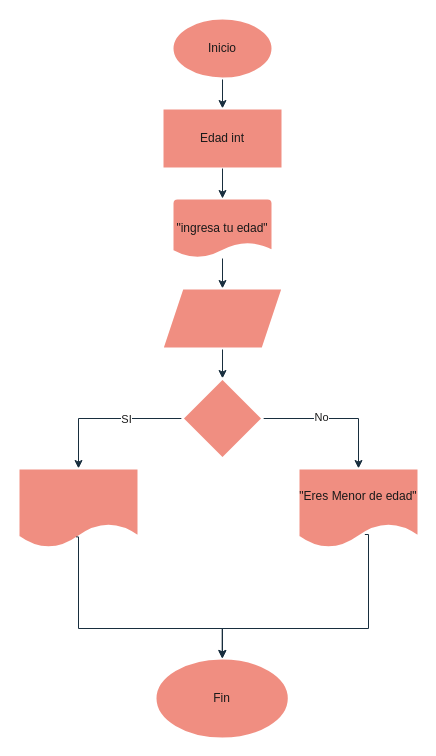
This 436x756 diagram has some shape labels left out. The shapes that lost their labels are listed below. From the top down, each one's box as (x1, y1, x2, y2) in pixels, then its label:
(161, 287, 283, 349): Edad
(181, 377, 263, 459): Edad >= 18
(17, 467, 139, 549): "Eres Mayor de edad"
